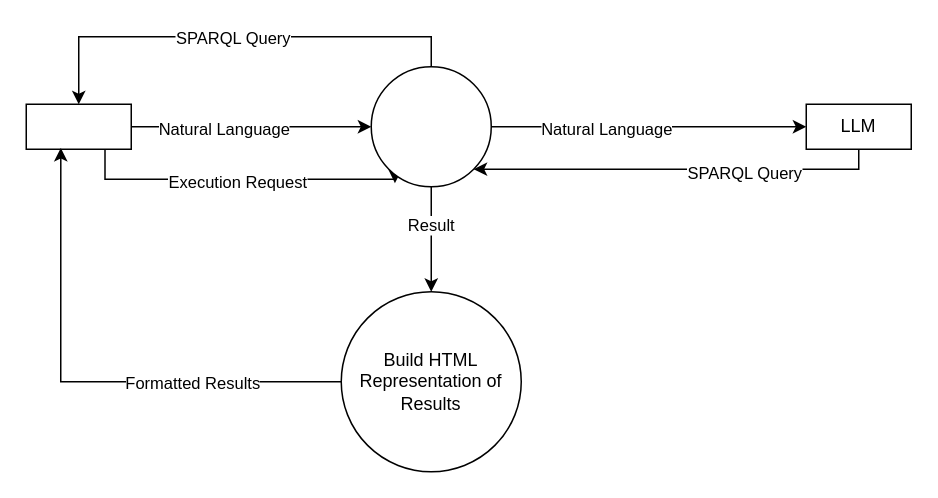
This 938x498 diagram has some shape labels left out. The centre of each missing label's shape, as x and y in pixels:
"Process Query" goes at point 430,126.
"User" goes at point 78,126.
